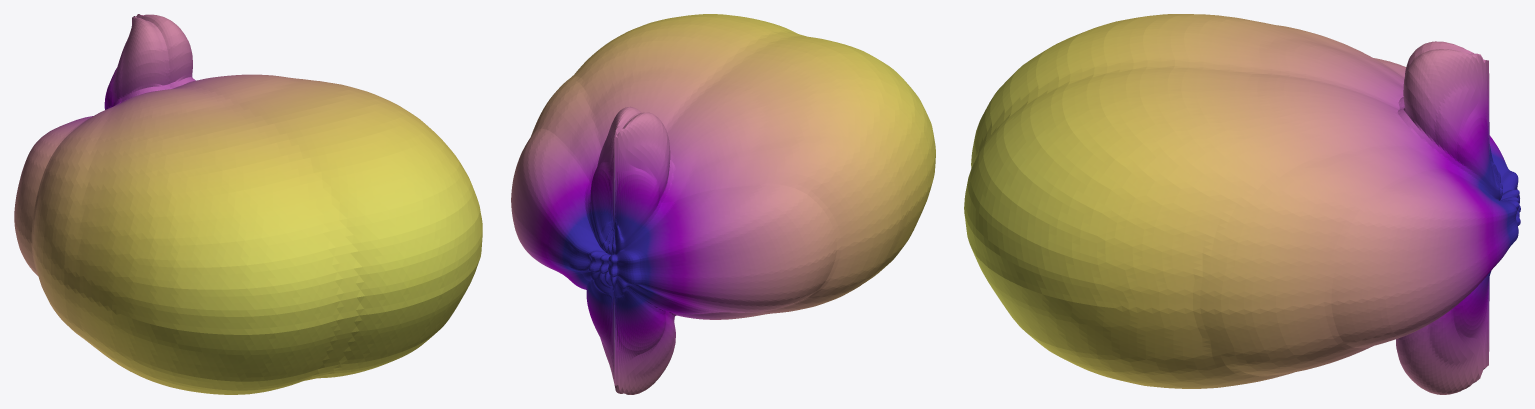
File: AIR-ANT2588P4M-NS-2.4Ghz.glb
3 renders of one model, left to right at view 1: azimuth 30°, elevation 25°; view 2: azimuth 150°, elevation 25°; view 3: azimuth 270°, elevation 25°, orthographic. The views are drawn at different scales.
Size of the model in its own units: 0.9111 by 0.7081 by 1.04.
